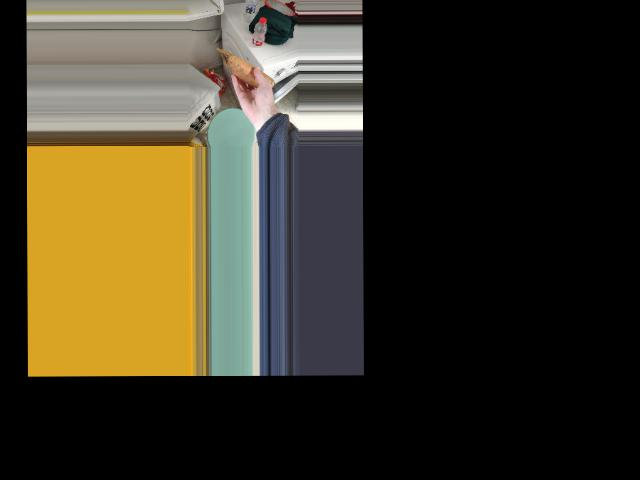sweet_potato: (236, 62, 272, 93)
